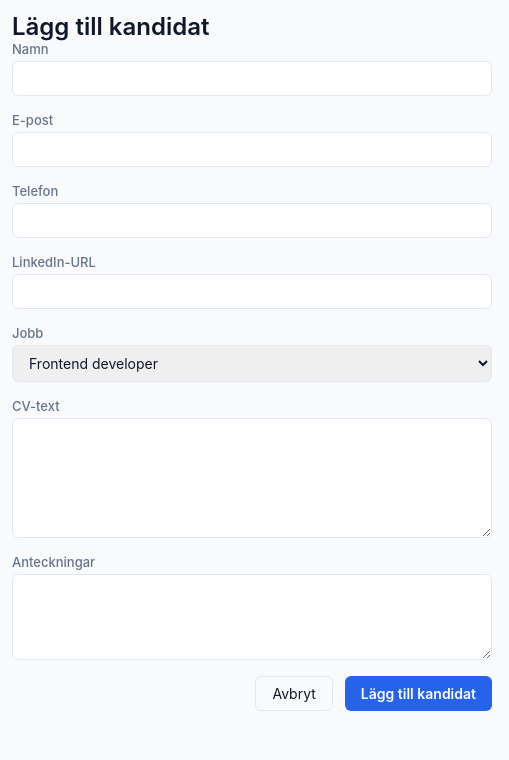
Test: AddCandidatePage › shows an inline error and does not navigate on failure
Type "Anna Andersson" into the field labelled "Namn" at (252, 78), box [12,61,492,96]
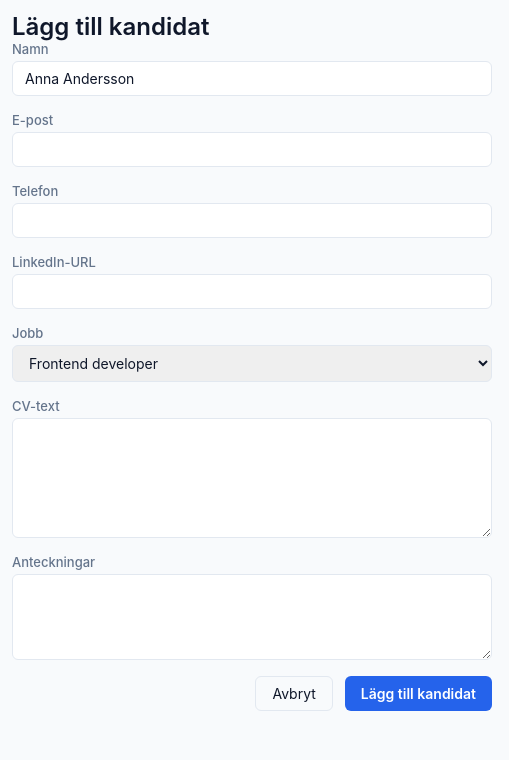
Type "anna@example.com" into the field labelled "E-post" at (252, 150), box [12,132,492,167]
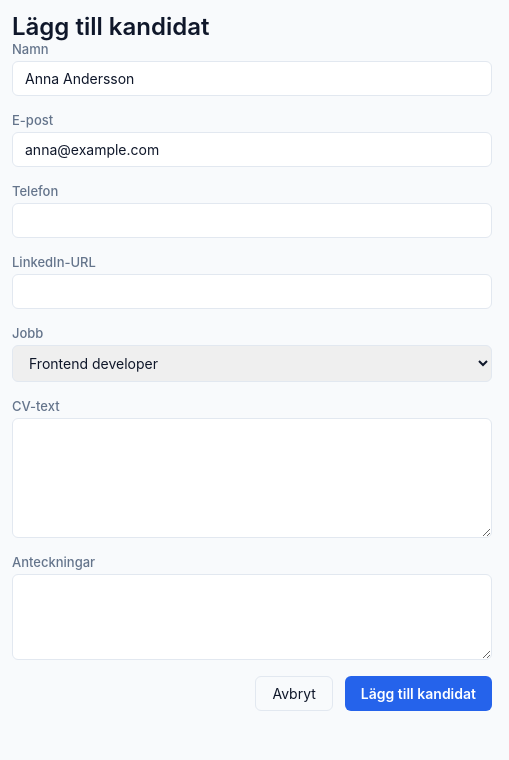
Click the button "Lägg till kandidat" at (418, 694), box [345,676,492,711]
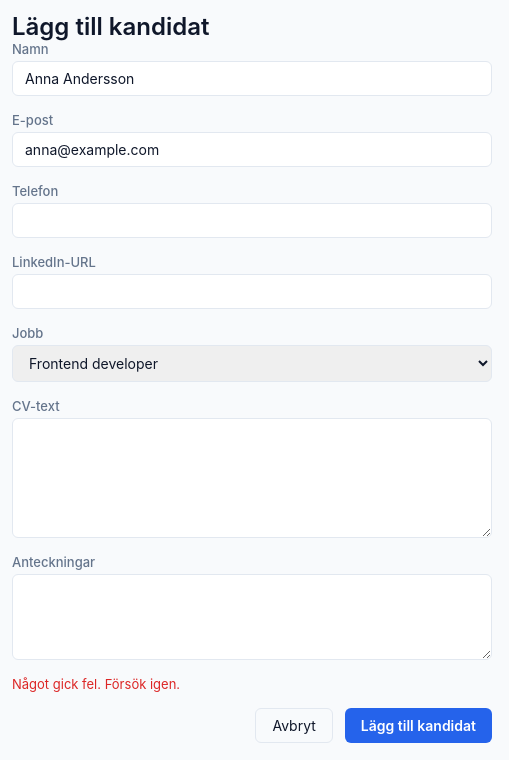
Expected: the message reads "Något gick fel. Försök igen.", [12,676,180,692]
